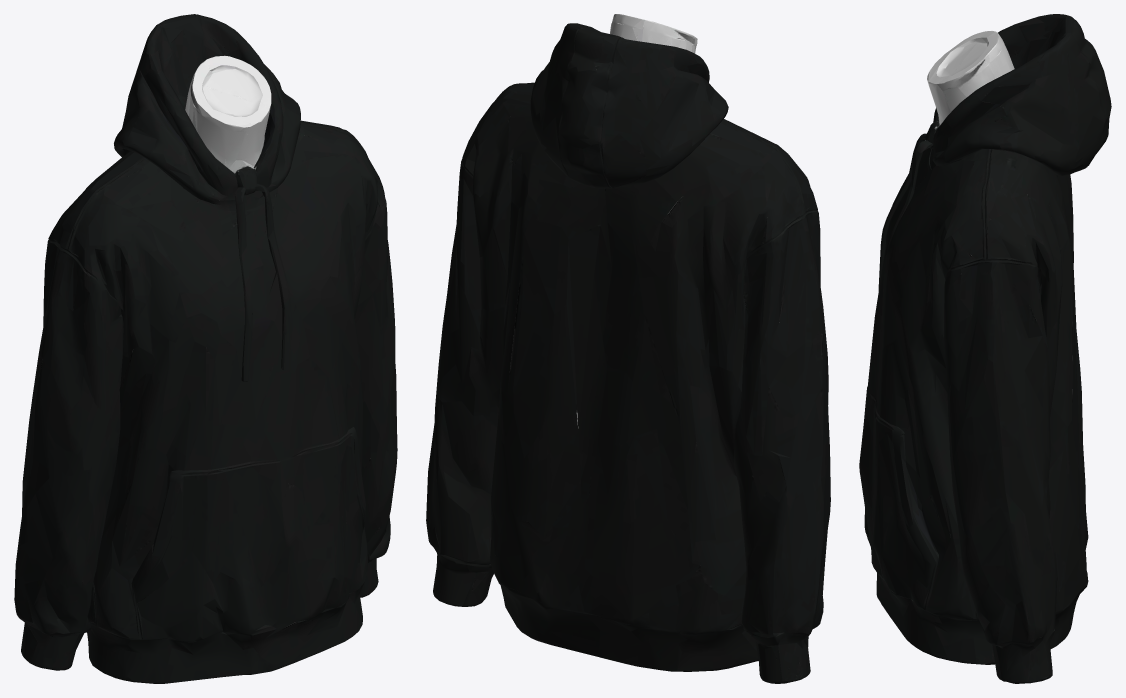
The model's file is hoodie.glb.
The picture shows the model from 3 angles, left to right: view 1: azimuth 30°, elevation 25°; view 2: azimuth 150°, elevation 25°; view 3: azimuth 270°, elevation 25°; orthographic projection. The views are drawn at different scales.
Bounding box in the file's own units: 1.25 × 1.9 × 0.7443.
1 material, 1 textured.
